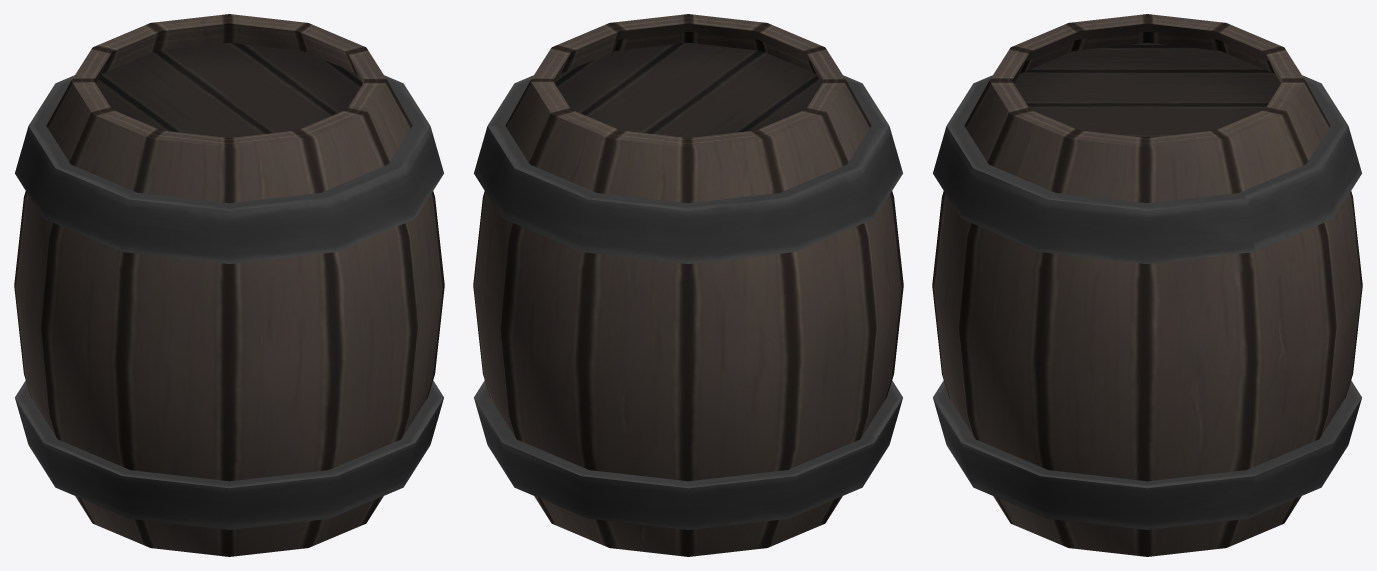
3 views of the same model, side by side, from view 1: azimuth 30°, elevation 25°; view 2: azimuth 150°, elevation 25°; view 3: azimuth 270°, elevation 25° (orthographic).
Parts seen in each view (by area): view 1: 木桶; view 2: 木桶; view 3: 木桶.
Boxes of the visible parts, x1=… form: 木桶: x1=14, y1=14, x2=444, y2=556; 木桶: x1=473, y1=14, x2=903, y2=556; 木桶: x1=932, y1=14, x2=1362, y2=556.
Bounding box in the file's own units: 85.96 × 90.17 × 85.96.
1 material, 1 textured.
